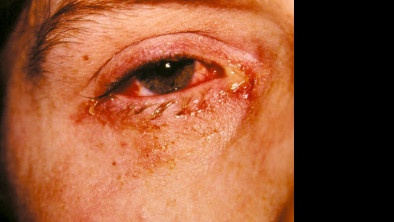SJS-TEN: (32, 0, 282, 222)
